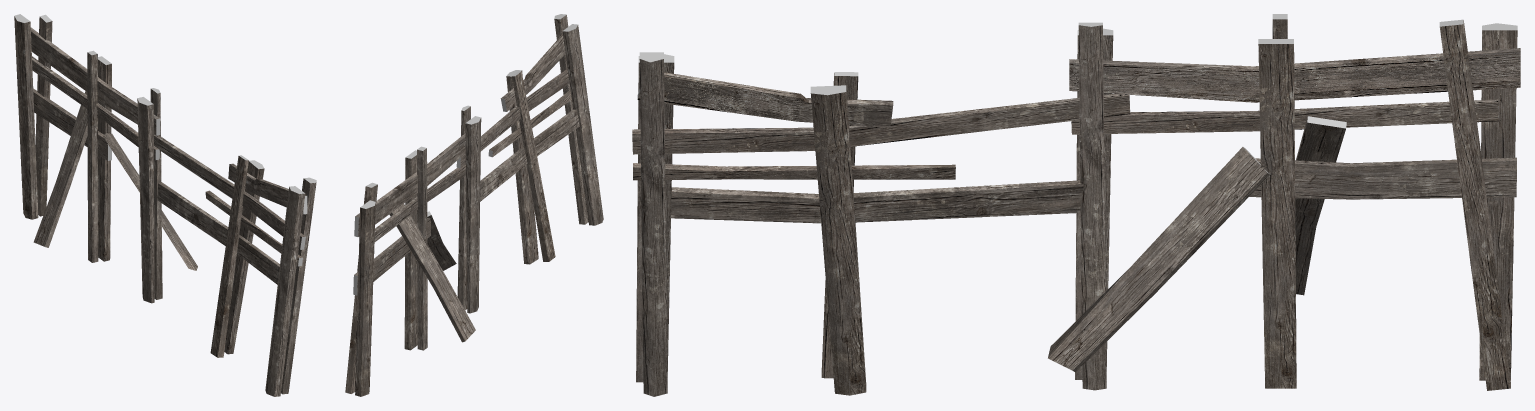
Rendered from Fence1C.fbx.
The picture shows the model from 3 angles, left to right: view 1: azimuth 30°, elevation 25°; view 2: azimuth 150°, elevation 25°; view 3: azimuth 270°, elevation 25°; orthographic projection. The views are drawn at different scales.
Visible parts, largest first — view 1: polySurface1285; view 2: polySurface1285; view 3: polySurface1285.
Boxes of the visible parts, box(x1,y1,x2,y2) form: polySurface1285: box(14, 14, 316, 396); polySurface1285: box(345, 14, 603, 396); polySurface1285: box(632, 14, 1520, 396).
Size of the model in its own units: 1 by 2.06 by 4.53.
